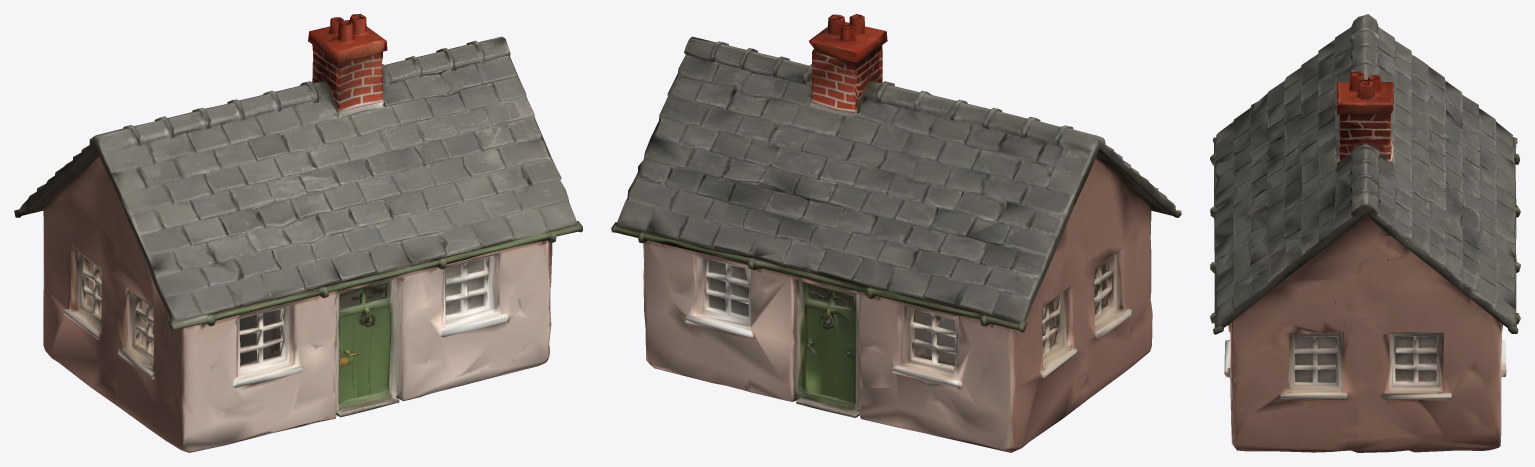
The model's file is cottage-3.glb.
3 views of the same model, side by side, from view 1: azimuth 30°, elevation 25°; view 2: azimuth 150°, elevation 25°; view 3: azimuth 270°, elevation 25° (orthographic). The views are drawn at different scales.
Parts seen in each view (by area): view 1: tripo_node_dca3e715-2300-4565-962d-6ccaa95a2076; view 2: tripo_node_dca3e715-2300-4565-962d-6ccaa95a2076; view 3: tripo_node_dca3e715-2300-4565-962d-6ccaa95a2076.
Part boxes in pixels (left/top/right/bottom): tripo_node_dca3e715-2300-4565-962d-6ccaa95a2076: left=14, top=14, right=582, bottom=452; tripo_node_dca3e715-2300-4565-962d-6ccaa95a2076: left=611, top=14, right=1181, bottom=452; tripo_node_dca3e715-2300-4565-962d-6ccaa95a2076: left=1210, top=14, right=1520, bottom=452.
Bounding box in the file's own units: 1 × 0.7682 × 0.6858.
1 material, 1 textured.
